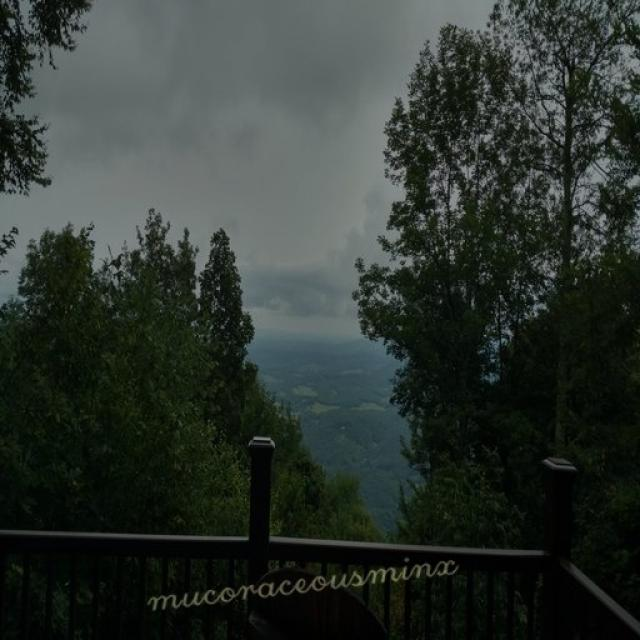watermark: (138, 540, 458, 618)
